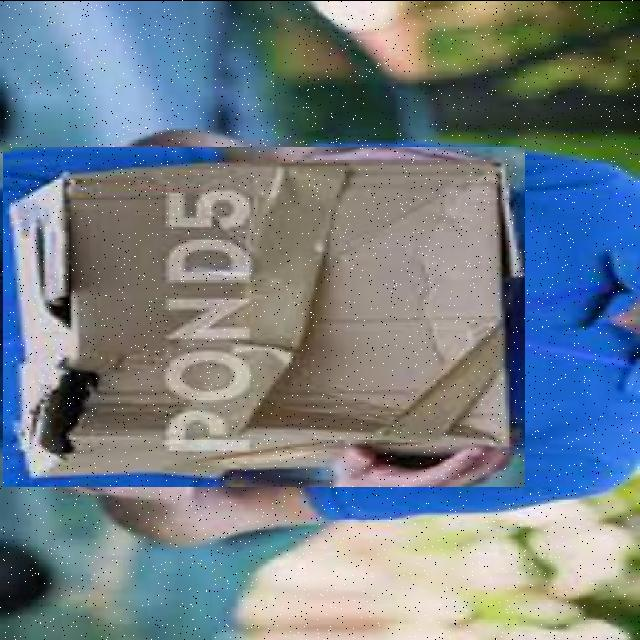defect: (3, 146, 525, 486)
